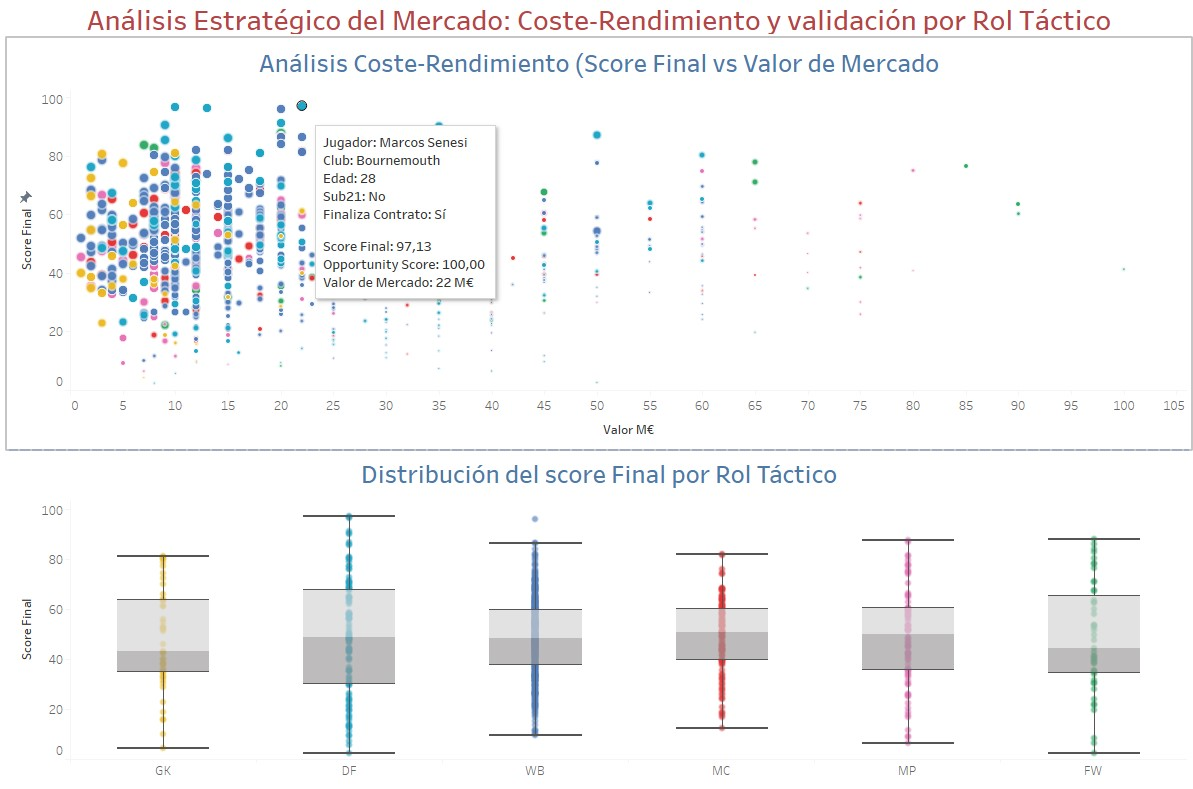

Layout of this report page (visuals, bound fields, positions):
{"tool":"tableau","page":{"name":"Análisis Estratégico del Mercado","canvas":[1200,800],"ordinal":0},"visuals":[{"type":"text","box":[8,8,1184,38]},{"type":"worksheet","title":"Coste-Rendimiento","mark":"Circle","rows":["Score_Final"],"cols":["Valor_M€"],"box":[8,46,1184,411]},{"type":"worksheet","title":"Distribución Score por Posición","mark":"Circle","rows":["Score_Final"],"cols":["Pos_Model"],"box":[8,457,1184,335]}]}

Visuals, with their boxes in screenshot pixels (x1, y1, x2, y2), scaled from the page's 1200x800 canvas onto the 1193x789 screenshot:
text: pyautogui.locateOnScreen(8, 8, 1185, 45)
"Coste-Rendimiento" worksheet (Circle marks): pyautogui.locateOnScreen(8, 45, 1185, 451)
"Distribución Score por Posición" worksheet (Circle marks): pyautogui.locateOnScreen(8, 451, 1185, 781)
